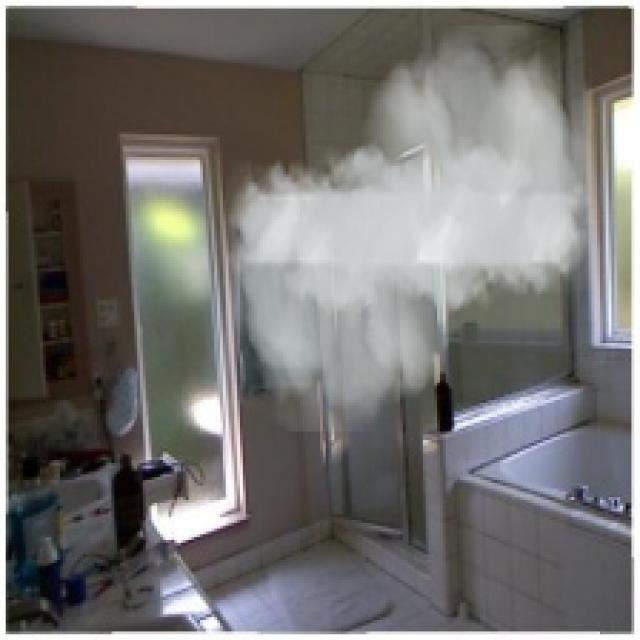smoke: (226, 26, 591, 431)
